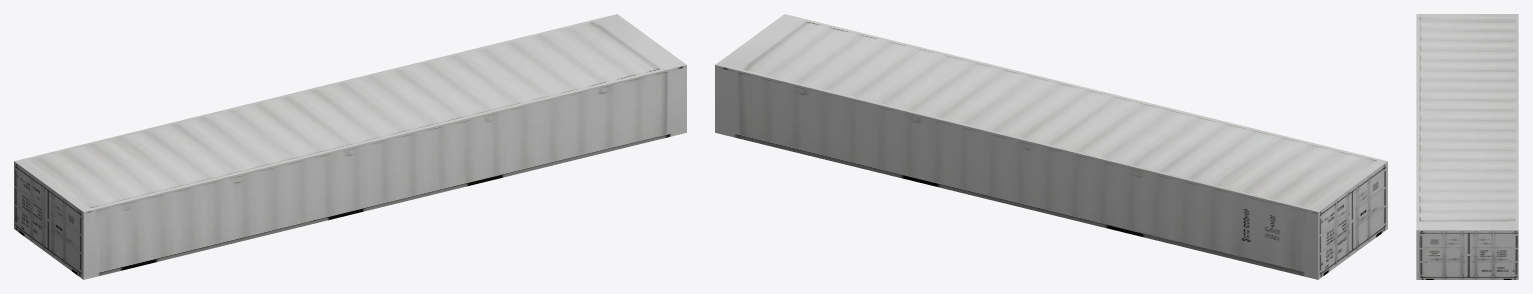
File: 40ft_43_container.glb
3 renders of one model, left to right at view 1: azimuth 30°, elevation 25°; view 2: azimuth 150°, elevation 25°; view 3: azimuth 270°, elevation 25°, orthographic. The views are drawn at different scales.
Visible parts, largest first — view 1: containerobjcleanermaterialmergergles; view 2: containerobjcleanermaterialmergergles; view 3: containerobjcleanermaterialmergergles.
Part boxes in pixels (bbox=[...]): containerobjcleanermaterialmergergles: bbox=[14, 14, 686, 279]; containerobjcleanermaterialmergergles: bbox=[715, 14, 1387, 279]; containerobjcleanermaterialmergergles: bbox=[1416, 14, 1518, 279].
Size of the model in its own units: 12.2 by 1.31 by 2.44.
1 material, 1 textured.
